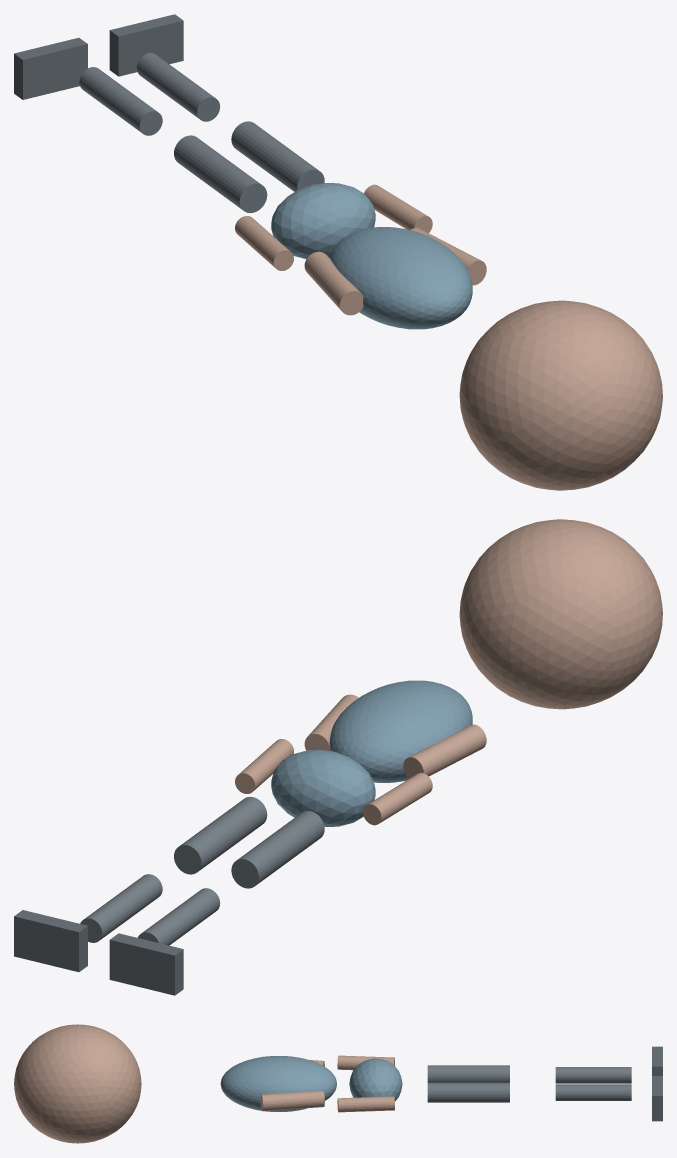
File: newborn-high.glb
3 views of the same model, one above another, from view 1: azimuth 30°, elevation 25°; view 2: azimuth 150°, elevation 25°; view 3: azimuth 270°, elevation 25° (orthographic). The views are drawn at different scales.
Visible parts, largest first — view 1: head, torso, pelvis, left_foot, left_thigh, right_foot, right_thigh, left_lower_leg, right_lower_leg, left_upper_arm, left_forearm, right_forearm (+1 smaller); view 2: head, torso, pelvis, left_foot, right_foot, left_thigh, right_thigh, right_lower_leg, left_upper_arm, left_lower_leg, left_forearm, right_forearm (+1 smaller); view 3: head, torso, pelvis, right_thigh, left_thigh, left_lower_leg, right_lower_leg, right_upper_arm, right_forearm, right_foot, left_forearm, left_foot.
Boxes of the visible parts, <box> form: head: <box>459,300,662,490</box>; torso: <box>330,227,472,329</box>; pelvis: <box>271,183,375,259</box>; left_foot: <box>14,37,87,99</box>; left_thigh: <box>174,135,267,213</box>; right_foot: <box>109,14,183,76</box>; right_thigh: <box>231,121,324,191</box>; left_lower_leg: <box>79,67,162,135</box>; right_lower_leg: <box>137,53,220,121</box>; left_upper_arm: <box>304,251,363,315</box>; left_forearm: <box>235,216,293,270</box>; right_forearm: <box>364,184,432,232</box>; head: <box>459,519,662,709</box>; torso: <box>329,680,472,782</box>; pelvis: <box>271,749,375,826</box>; left_foot: <box>109,933,183,995</box>; right_foot: <box>14,910,87,972</box>; left_thigh: <box>231,811,324,888</box>; right_thigh: <box>174,796,267,874</box>; right_lower_leg: <box>80,874,162,942</box>; left_upper_arm: <box>403,724,486,778</box>; left_lower_leg: <box>137,888,220,945</box>; left_forearm: <box>363,772,432,825</box>; right_forearm: <box>235,739,293,793</box>; head: <box>14,1024,141,1143</box>; torso: <box>220,1056,336,1111</box>; pelvis: <box>349,1058,402,1101</box>; right_thigh: <box>427,1082,509,1102</box>; left_thigh: <box>427,1065,509,1082</box>; left_lower_leg: <box>555,1067,631,1083</box>; right_lower_leg: <box>555,1084,631,1100</box>; right_upper_arm: <box>260,1090,324,1111</box>; right_forearm: <box>337,1096,394,1112</box>; right_foot: <box>652,1076,662,1121</box>; left_forearm: <box>337,1055,394,1070</box>; left_foot: <box>652,1046,662,1075</box>.
Size of the model in its own units: 0.92 by 0.8464 by 4.68.
